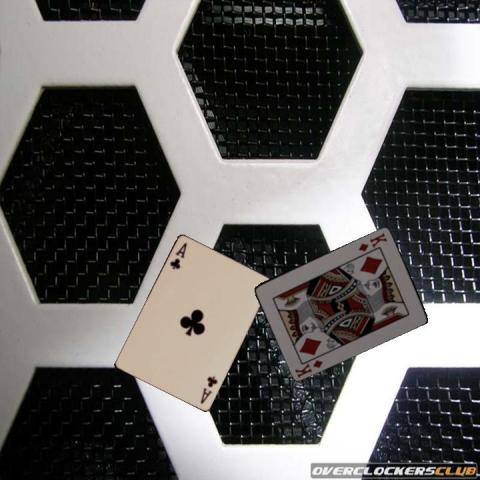Ac: (198, 374, 220, 406), (167, 240, 189, 271)
Kd: (292, 350, 325, 378), (355, 229, 389, 253)
